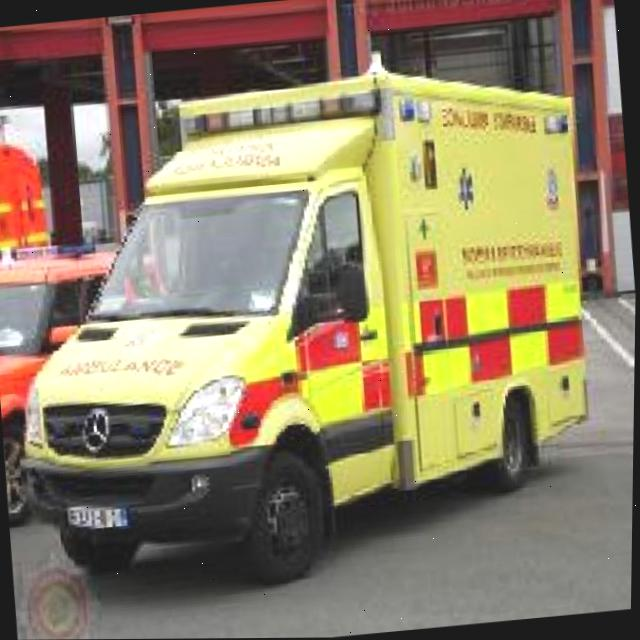emergency: (0, 35, 617, 609)
